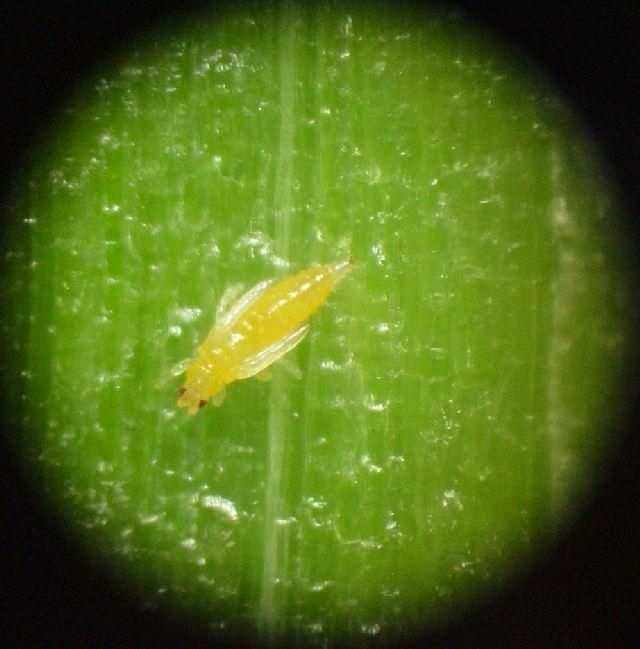thrips: (168, 256, 353, 417)
